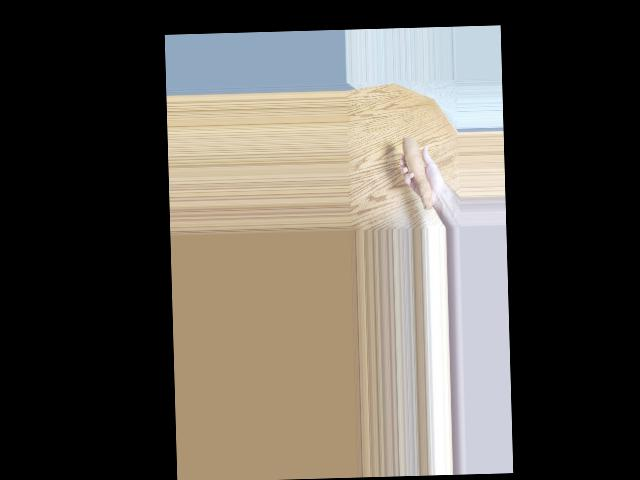sweet_potato: (399, 135, 433, 218)
